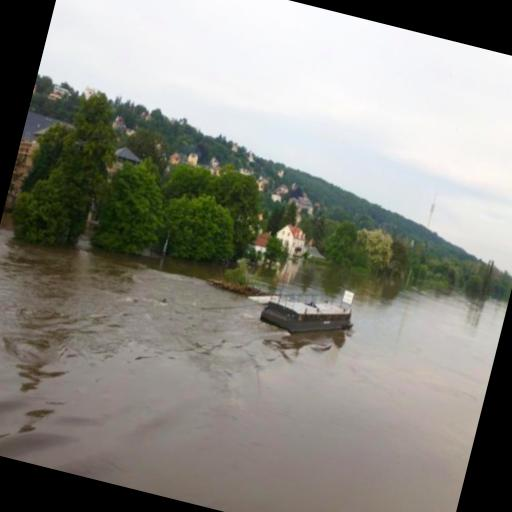flood: (0, 214, 508, 512)
house: (263, 284, 357, 347), (4, 111, 43, 213), (274, 220, 310, 258), (112, 144, 144, 168), (250, 228, 272, 257)
